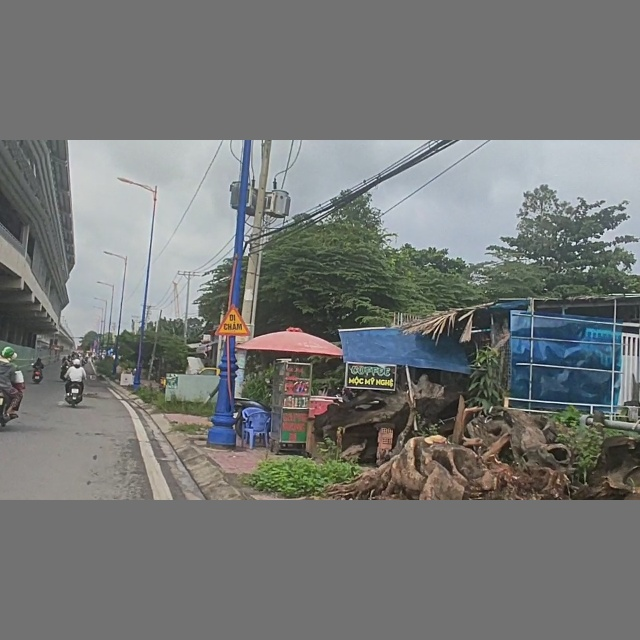W.245a: (216, 303, 251, 337)
